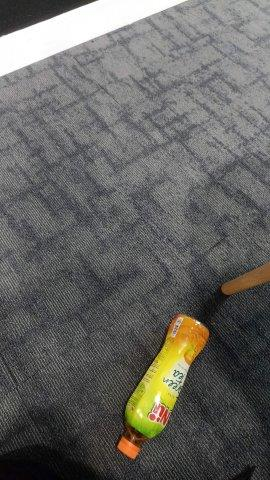botolplastik: (118, 314, 210, 459)
